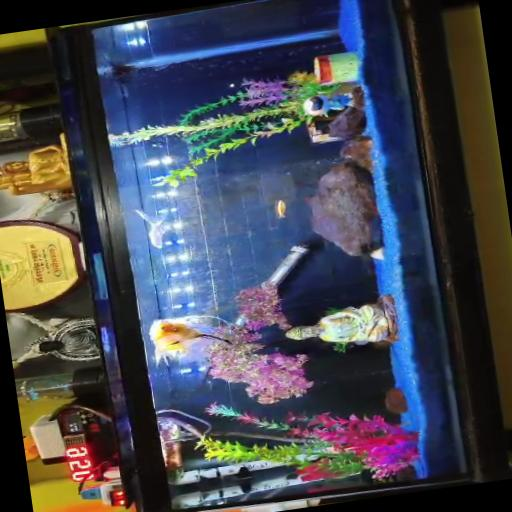Fish: (150, 315, 232, 363), (135, 210, 165, 248), (23, 436, 39, 461), (275, 200, 286, 218)
